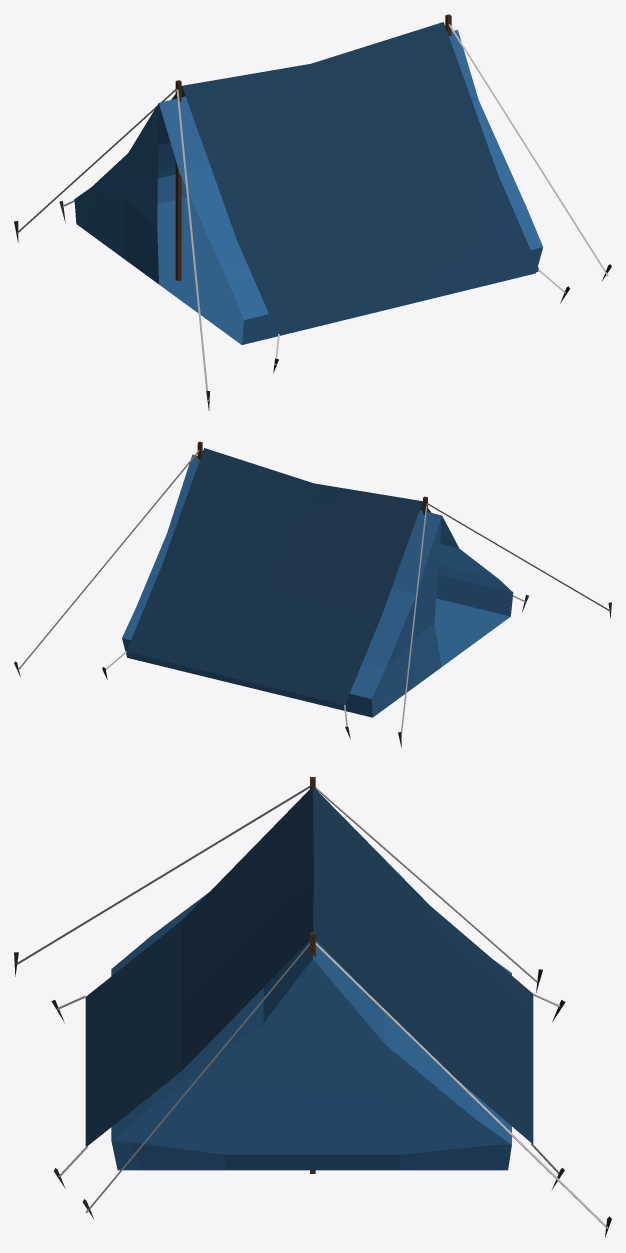
File: TentBlue.fbx
3 views of the same model, one above another, from view 1: azimuth 30°, elevation 25°; view 2: azimuth 150°, elevation 25°; view 3: azimuth 270°, elevation 25° (orthographic). The views are drawn at different scales.
Parts seen in each view (by area): view 1: Tent; view 2: Tent; view 3: Tent.
Boxes of the visible parts, <box> form: Tent: <box>14,14,611,410</box>; Tent: <box>14,441,611,747</box>; Tent: <box>14,777,611,1237</box>.
Bounding box in the file's own units: 365 × 162 × 346.
Materials: 1 (1 with a texture image).
